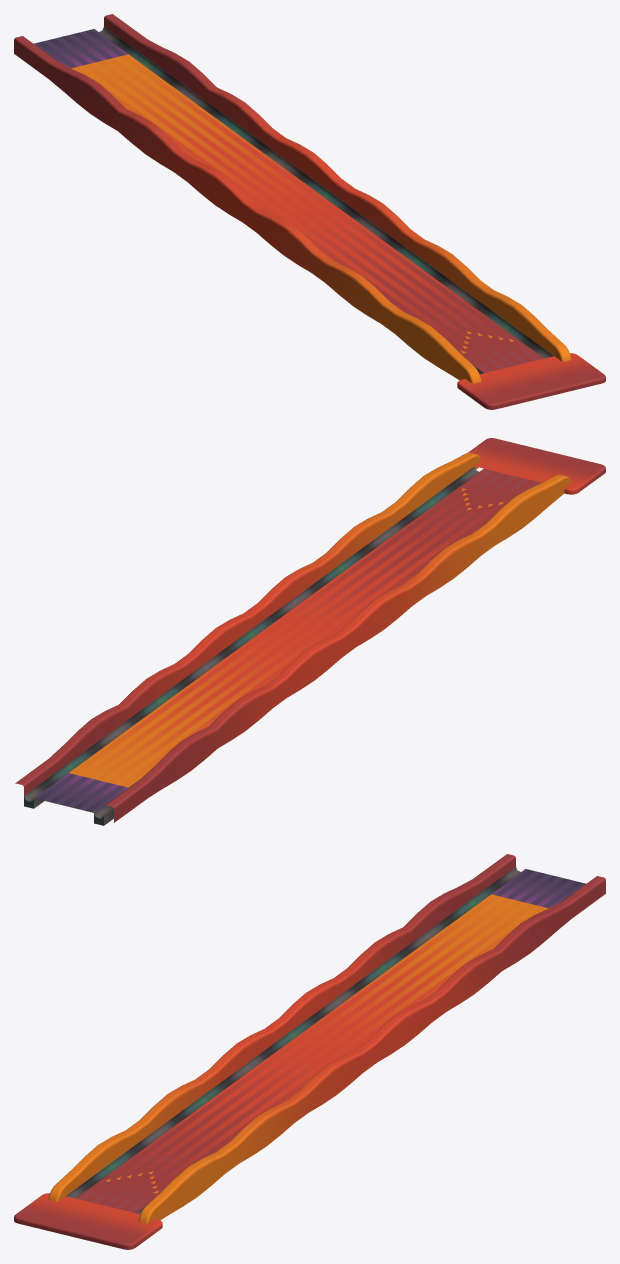
File: lane_red.gltf
3 renders of one model, top to bottom at view 1: azimuth 30°, elevation 25°; view 2: azimuth 150°, elevation 25°; view 3: azimuth 330°, elevation 25°, orthographic.
Visible parts, largest first — view 1: lane_default.walls.002, lane_default.floor.002, lane_default.gutter.002, lane_default.playerArea.001; view 2: lane_default.walls.002, lane_default.floor.002, lane_default.gutter.002, lane_default.playerArea.001; view 3: lane_default.walls.002, lane_default.floor.002, lane_default.gutter.002, lane_default.playerArea.001.
Part boxes in pixels (x1,y1,x2,y2): lane_default.walls.002: (14, 14, 571, 383); lane_default.floor.002: (34, 29, 543, 372); lane_default.gutter.002: (34, 27, 553, 374); lane_default.playerArea.001: (457, 353, 605, 409); lane_default.walls.002: (15, 452, 571, 822); lane_default.floor.002: (34, 469, 541, 812); lane_default.gutter.002: (24, 466, 483, 825); lane_default.playerArea.001: (468, 438, 605, 494); lane_default.walls.002: (48, 854, 605, 1223); lane_default.floor.002: (76, 869, 585, 1212); lane_default.gutter.002: (66, 867, 585, 1214); lane_default.playerArea.001: (14, 1193, 162, 1249).
Bounding box in the file's own units: 3 × 0.7076 × 21.
1 material, 1 textured.
